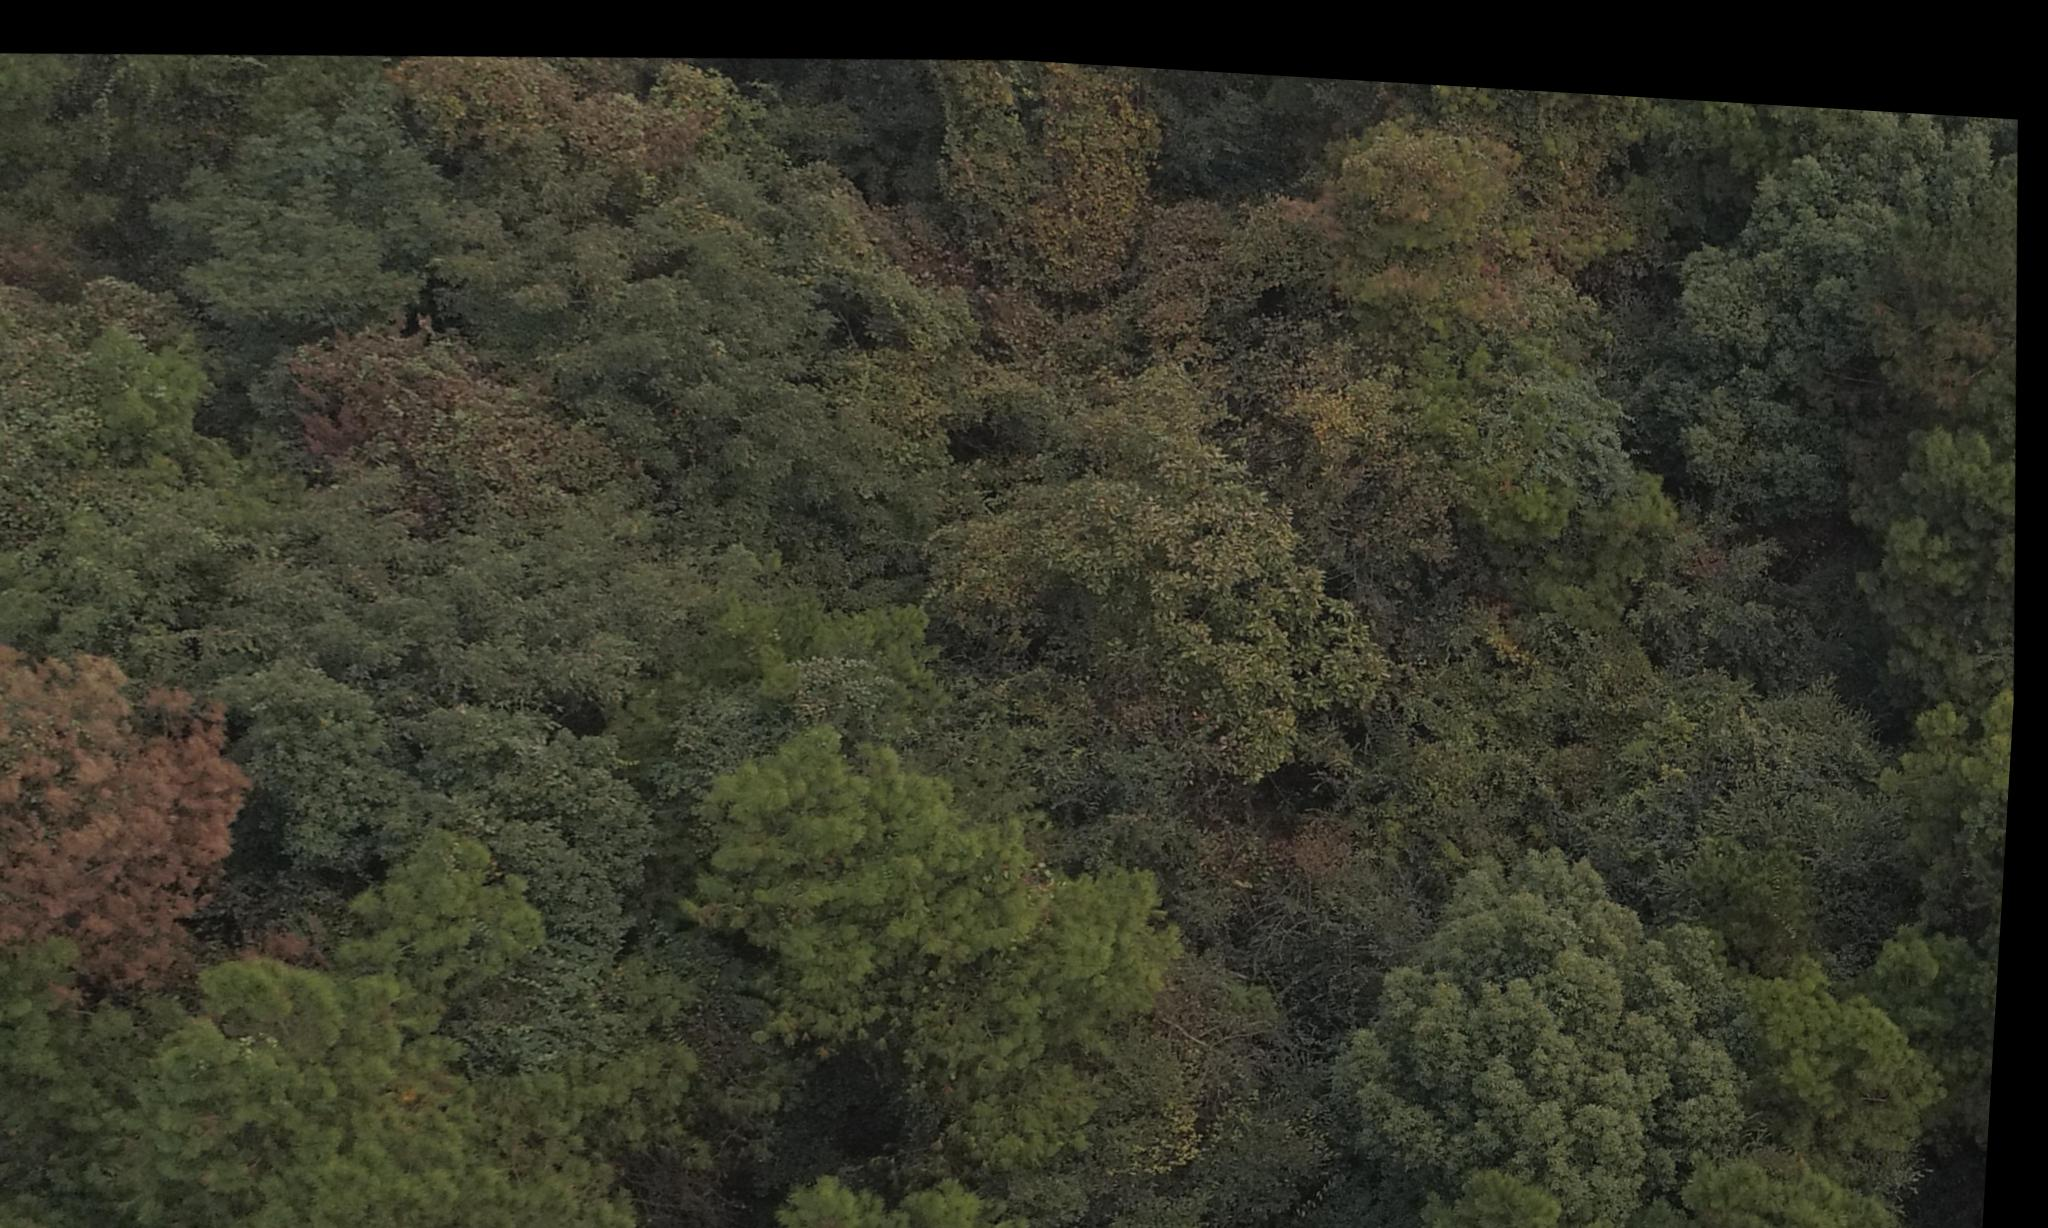heavy: (0, 618, 304, 1004)
